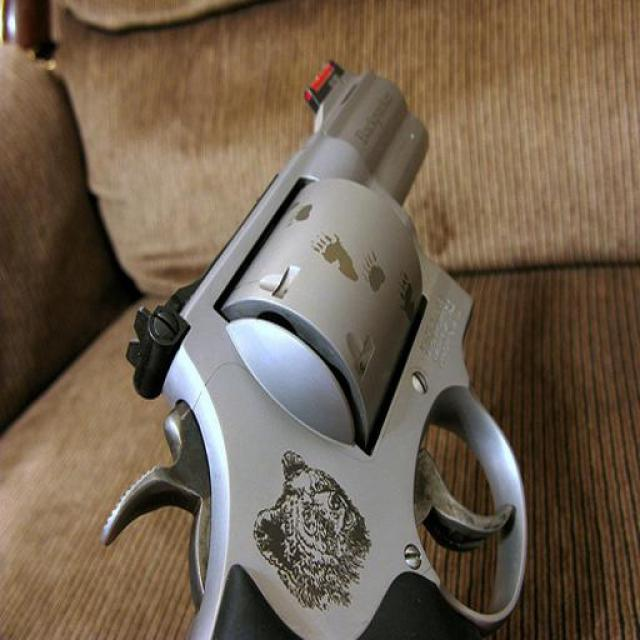pistol: (91, 62, 527, 640)
